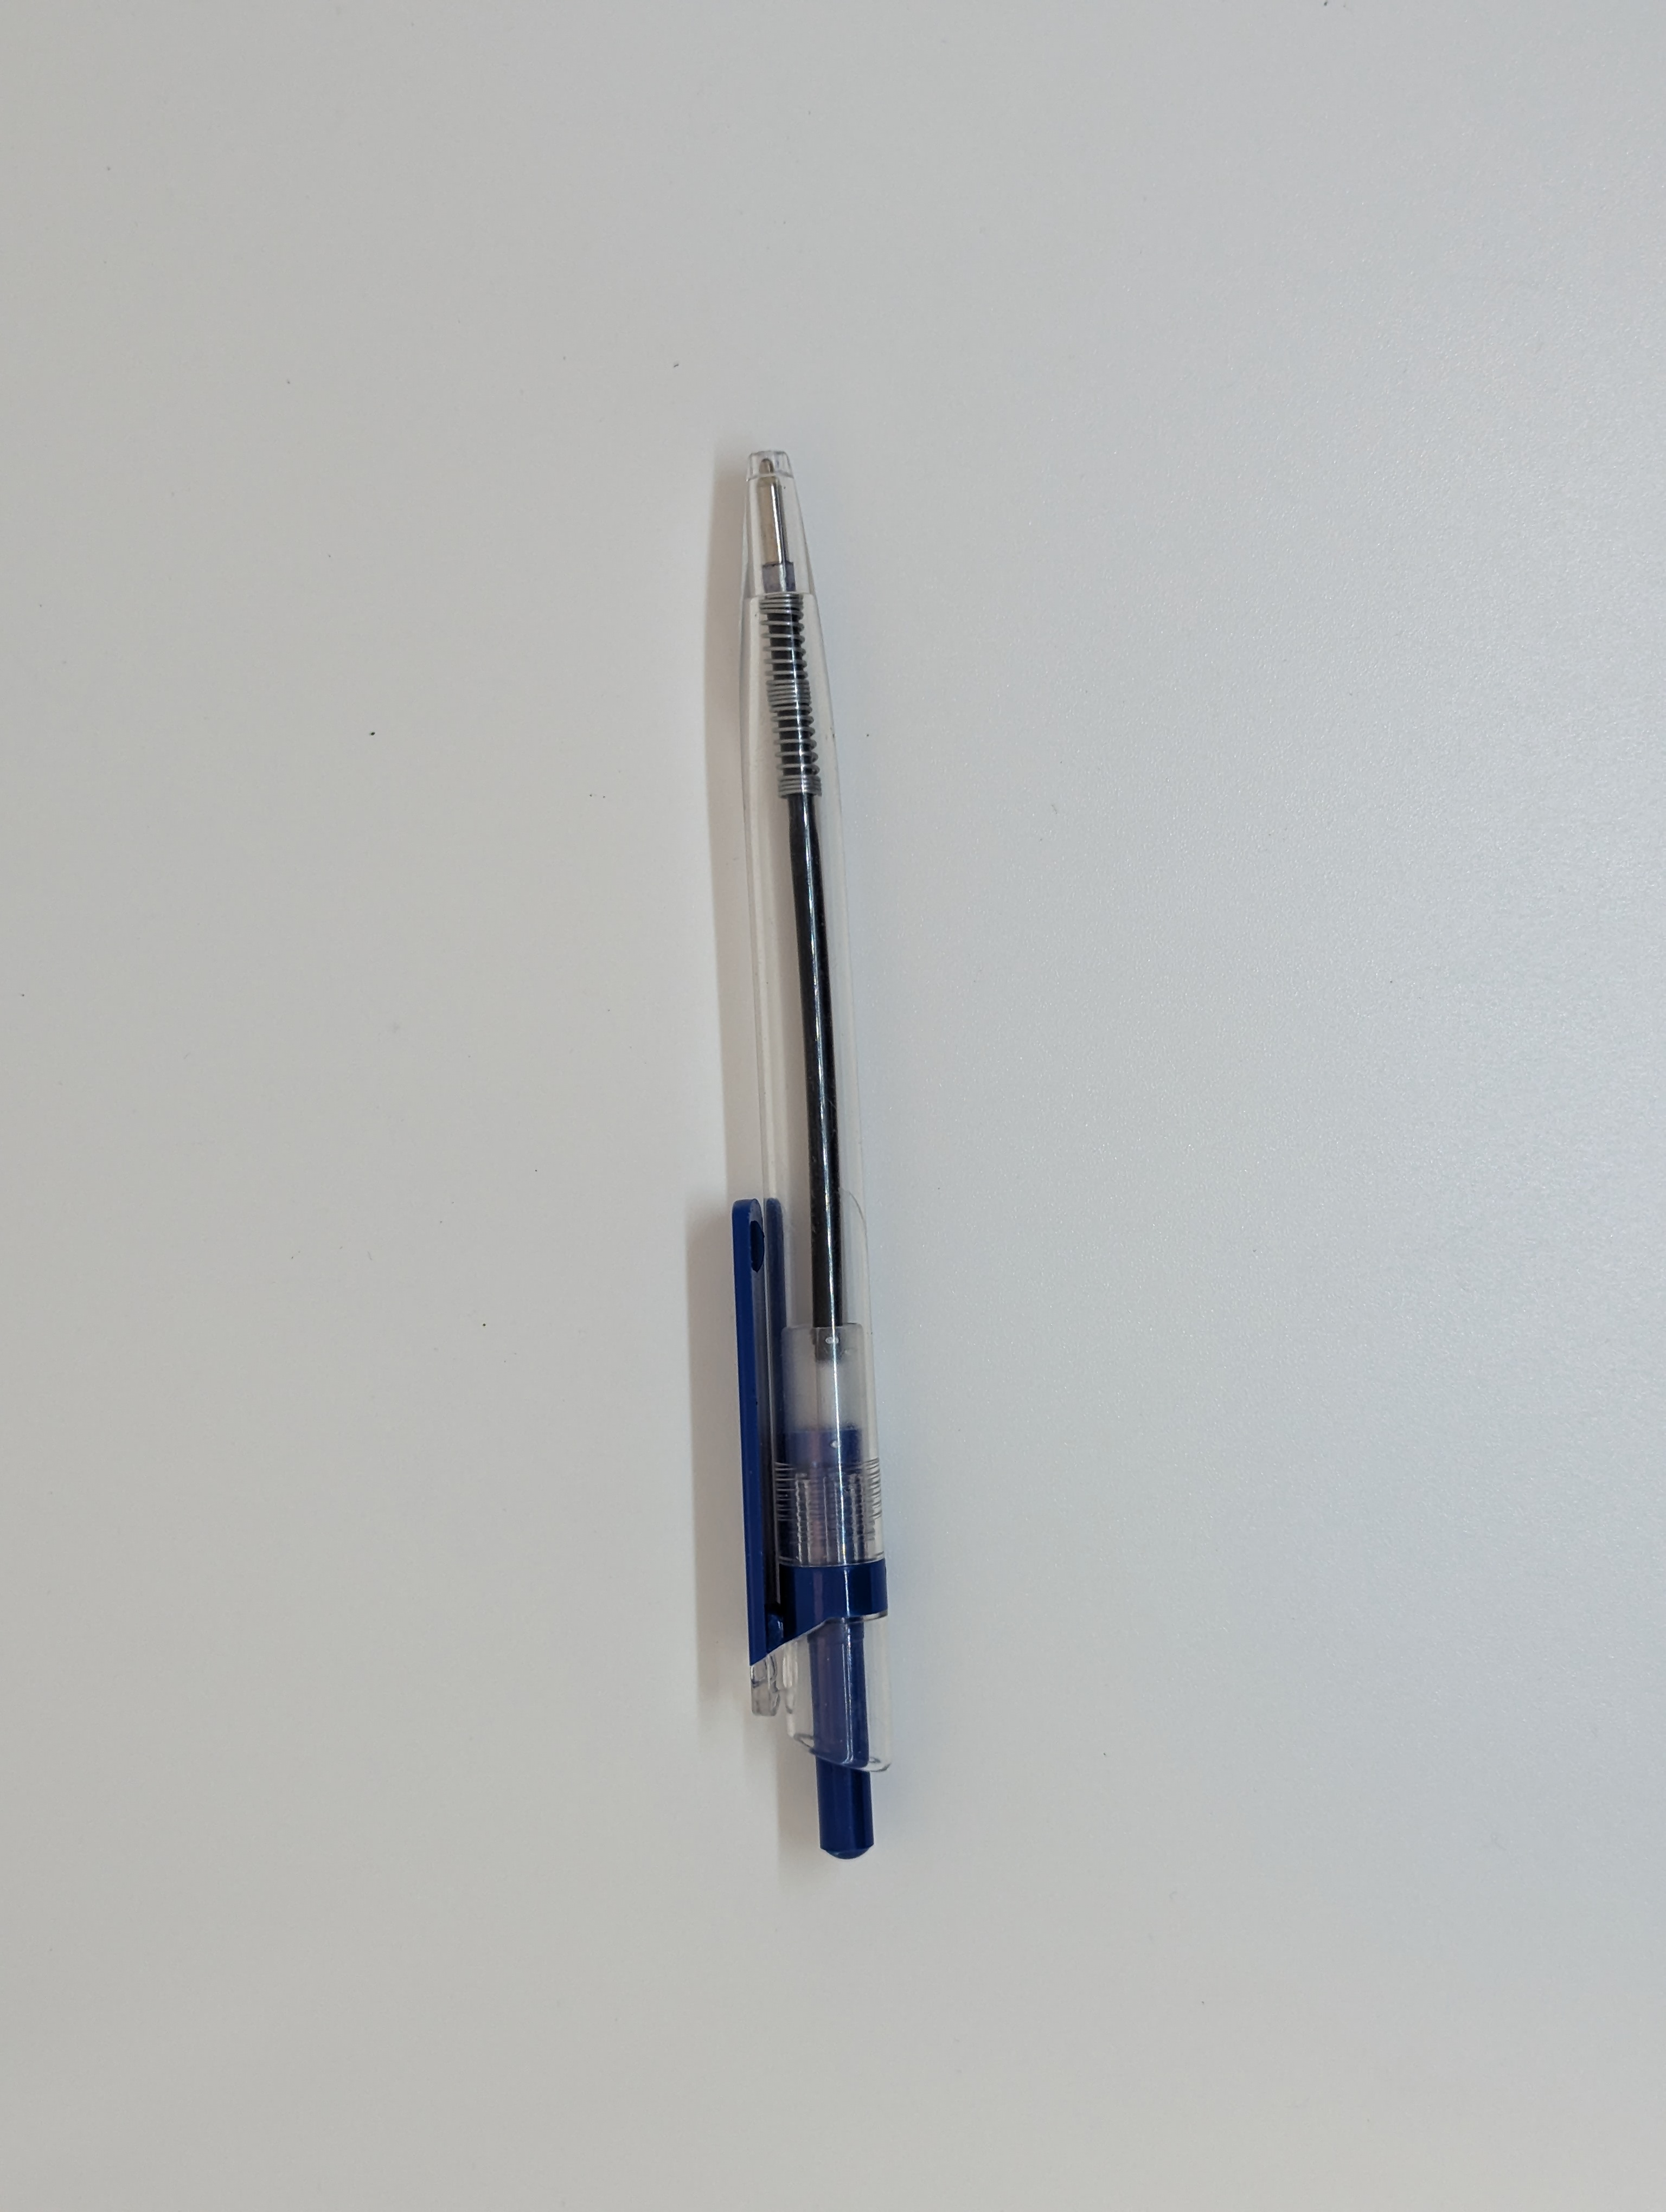regular-stylo: (635, 393, 1001, 1906)
